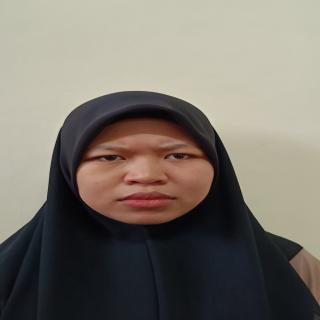Marah: (74, 108, 223, 237)
